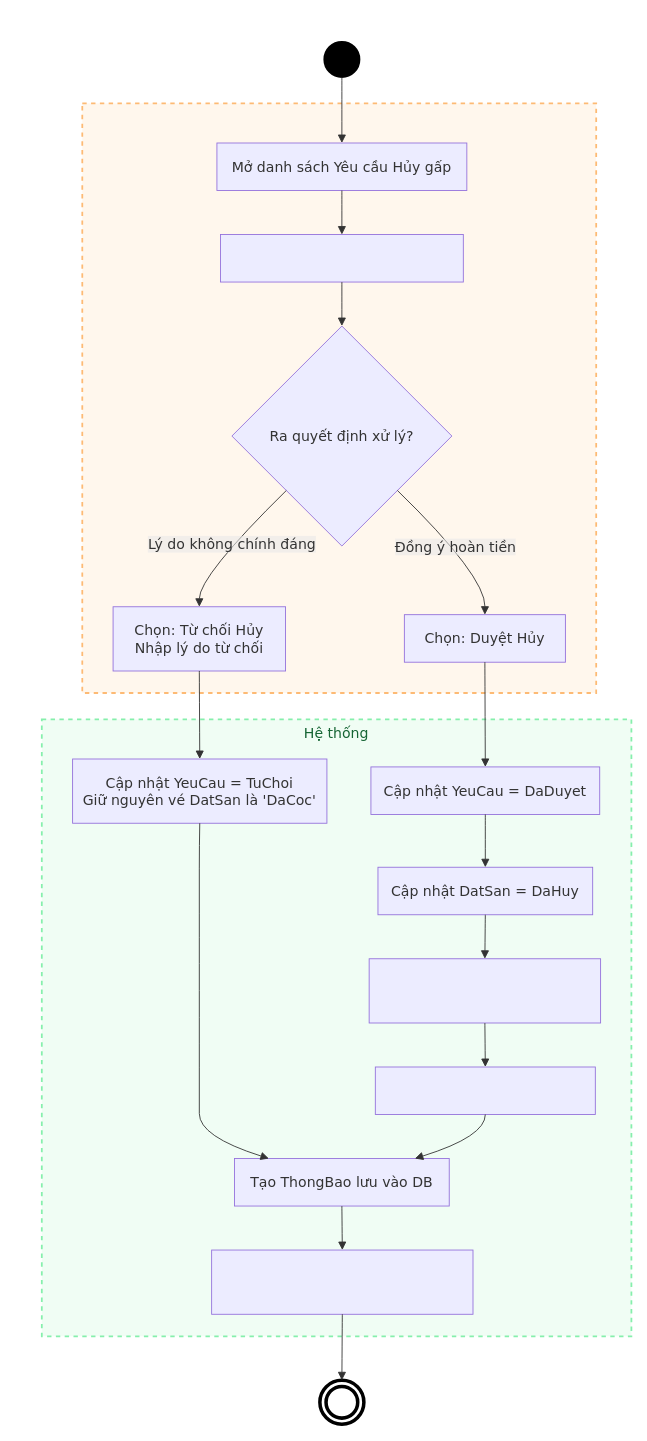
Some shapes in this 647 by 1441 pixel diagram are drawn without their labels. The box of each missing label's shape, as (x1, y1, x2, y2) in pixels:
Admin: (81, 102, 597, 693)
Ghi nhận Lịch sử giao dịch: (374, 1066, 595, 1115)
Phát Broadcast UserDataUpdated để Khách hàng nhận kết quả: (211, 1249, 473, 1314)
Tự động cộng tiền hoàn cọc vào Số dư ví Khách hàng: (368, 958, 601, 1023)
Xem xét lý do của Khách hàng: (220, 234, 463, 282)
